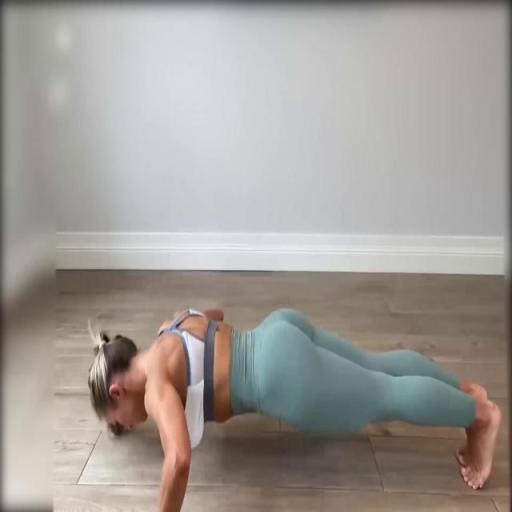Normal_BrenchPress: (86, 306, 505, 508)
